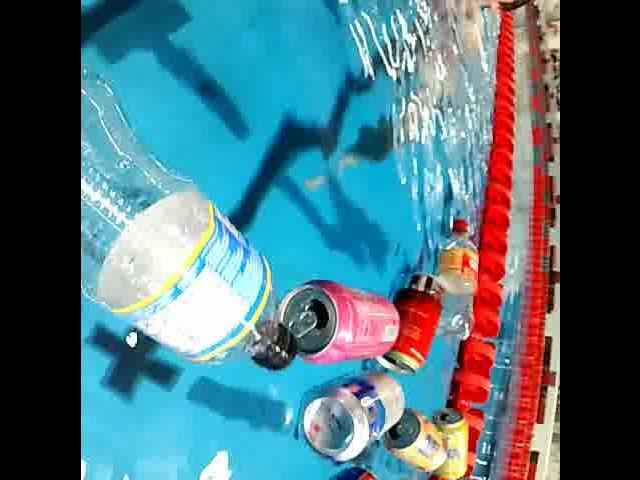Bottle: (80, 56, 301, 376), (428, 213, 482, 345)
Can: (274, 276, 396, 370), (298, 364, 402, 464), (374, 263, 446, 380), (379, 404, 445, 477), (423, 399, 473, 480), (235, 460, 383, 480)
